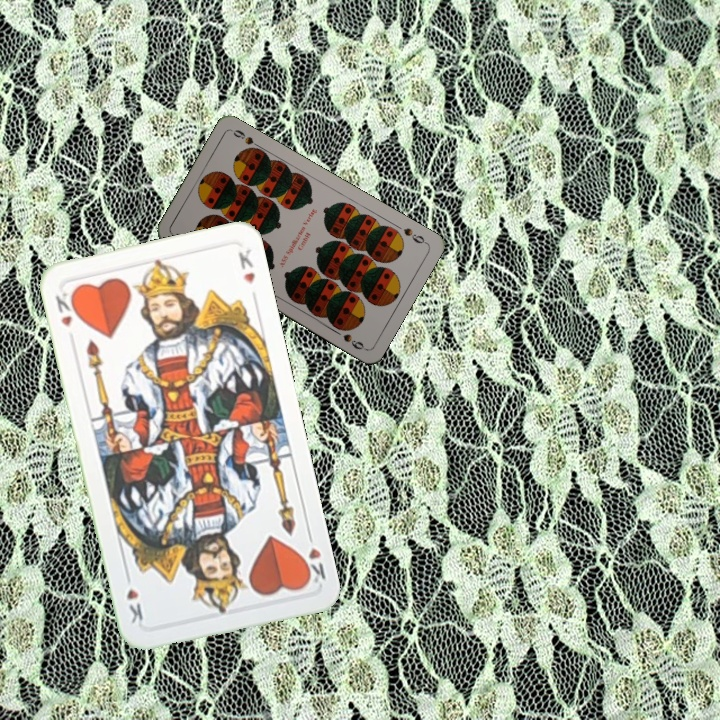HK: (297, 527, 329, 586), (51, 287, 81, 330)
S9: (399, 223, 430, 246)
